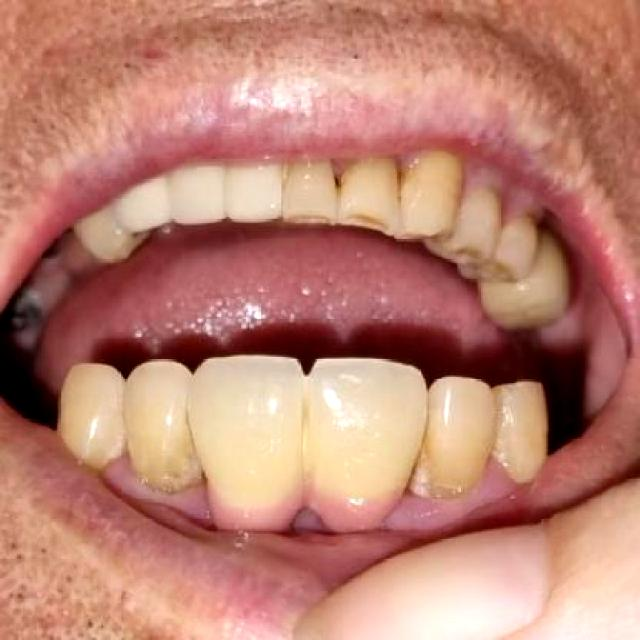Plaque: (389, 461, 509, 524), (171, 483, 207, 520), (429, 240, 482, 260), (395, 149, 421, 183), (292, 512, 326, 532), (333, 161, 356, 177)
